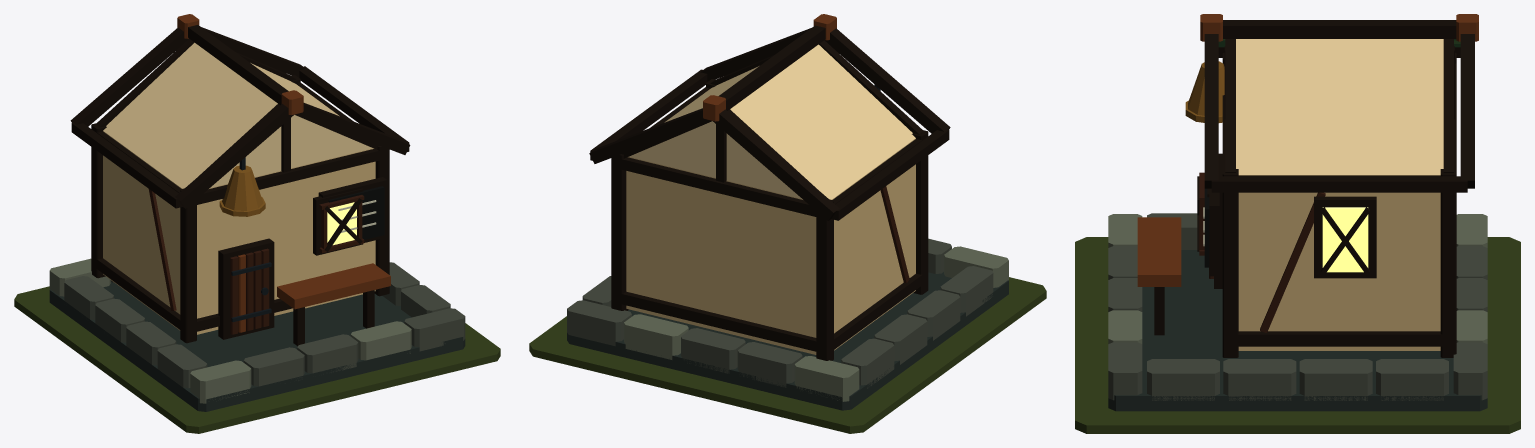
File: schoolroom_t3.glb
3 views of the same model, side by side, from view 1: azimuth 30°, elevation 25°; view 2: azimuth 150°, elevation 25°; view 3: azimuth 270°, elevation 25° (orthographic). The views are drawn at different scales.
Visible parts, largest first — view 1: MMR | schoolroom | T03 Architecture.001, MMR | schoolroom | Tier 03 Ground.001; view 2: MMR | schoolroom | T03 Architecture.001, MMR | schoolroom | Tier 03 Ground.001; view 3: MMR | schoolroom | T03 Architecture.001, MMR | schoolroom | Tier 03 Ground.001.
Part boxes in pixels (x1,y1,x2,y2): MMR | schoolroom | T03 Architecture.001: [49, 14, 465, 411]; MMR | schoolroom | Tier 03 Ground.001: [14, 286, 500, 433]; MMR | schoolroom | T03 Architecture.001: [567, 14, 1008, 410]; MMR | schoolroom | Tier 03 Ground.001: [529, 277, 1046, 433]; MMR | schoolroom | T03 Architecture.001: [1108, 14, 1487, 411]; MMR | schoolroom | Tier 03 Ground.001: [1075, 237, 1520, 433].
Size of the model in its own units: 2.35 by 1.87 by 2.35.
2 materials, 1 textured.
